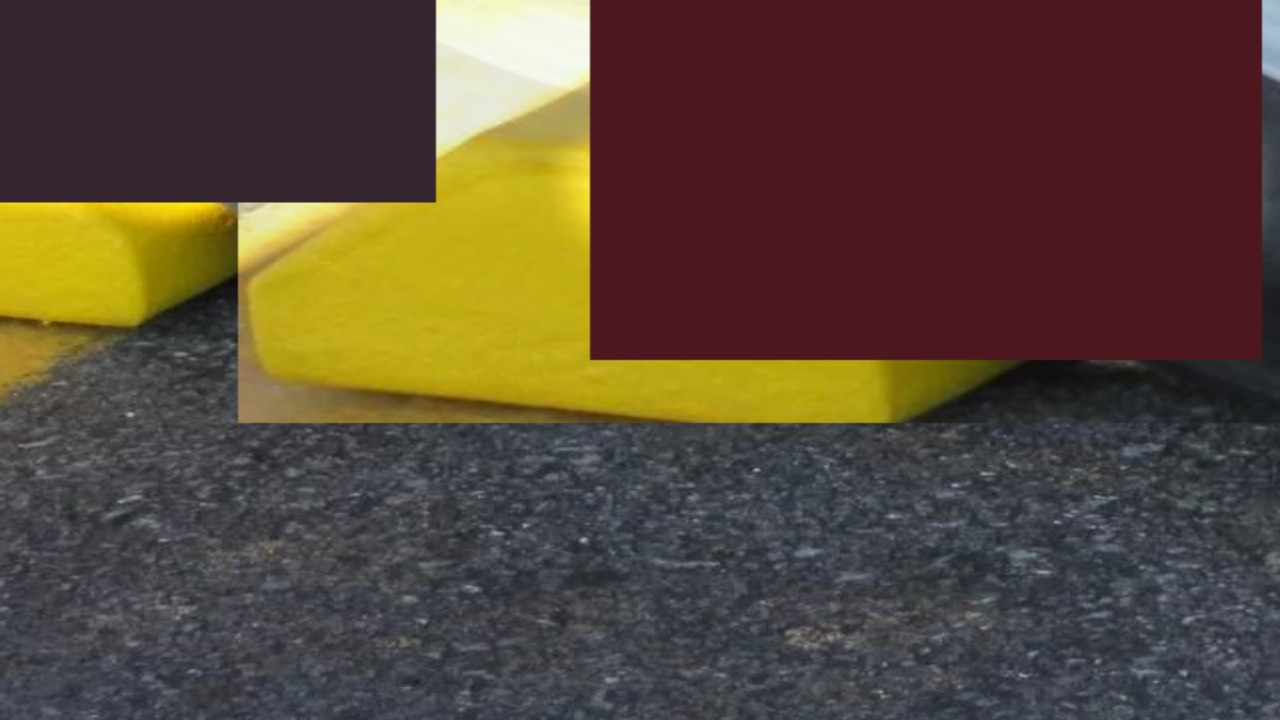chock: (238, 0, 1280, 423), (0, 0, 690, 315)
